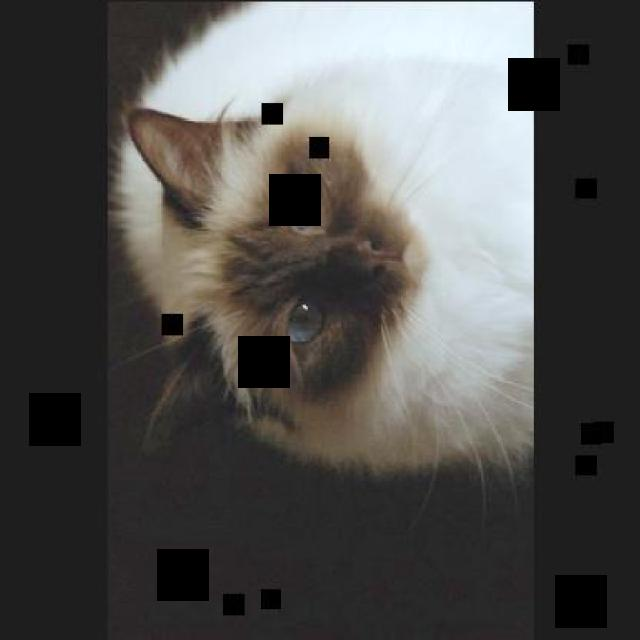unauthorized: (108, 0, 534, 515)
